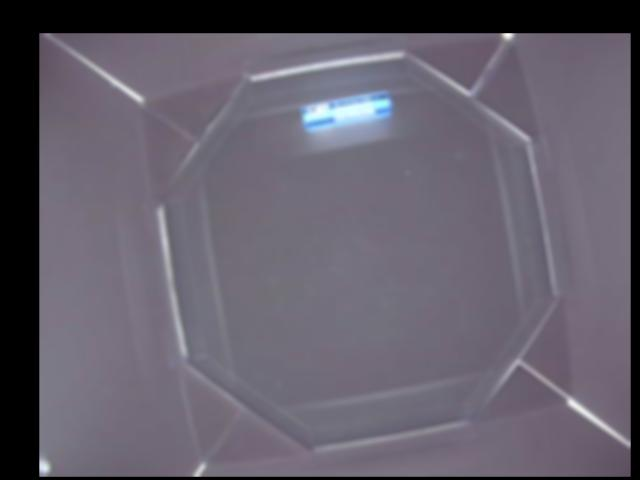Battery: (301, 89, 390, 133)
